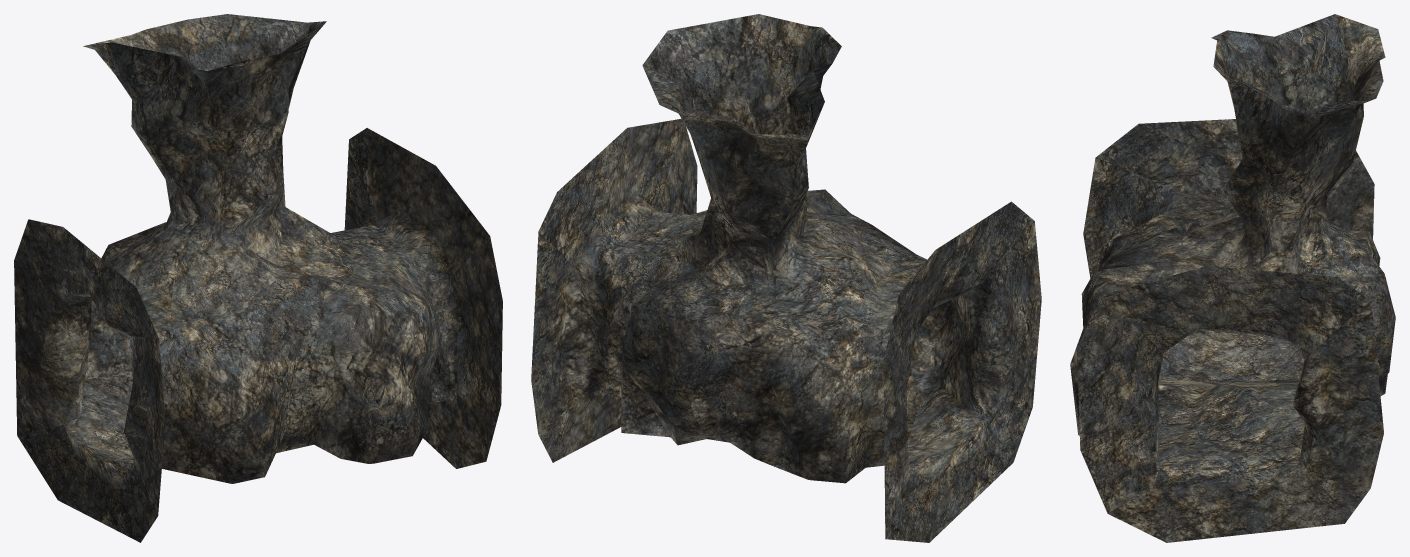
File: Module2.fbx
3 views of the same model, side by side, from view 1: azimuth 30°, elevation 25°; view 2: azimuth 150°, elevation 25°; view 3: azimuth 270°, elevation 25° (orthographic). The views are drawn at different scales.
Visible parts, largest first — view 1: cave_el2_1000_Group29255; view 2: cave_el2_1000_Group29255; view 3: cave_el2_1000_Group29255.
Part boxes in pixels (x1=…): cave_el2_1000_Group29255: x1=14, y1=14, x2=502, y2=542; cave_el2_1000_Group29255: x1=531, y1=14, x2=1041, y2=542; cave_el2_1000_Group29255: x1=1070, y1=14, x2=1395, y2=542.
Bounding box in the file's own units: 10.84 × 13.04 × 9.22.
